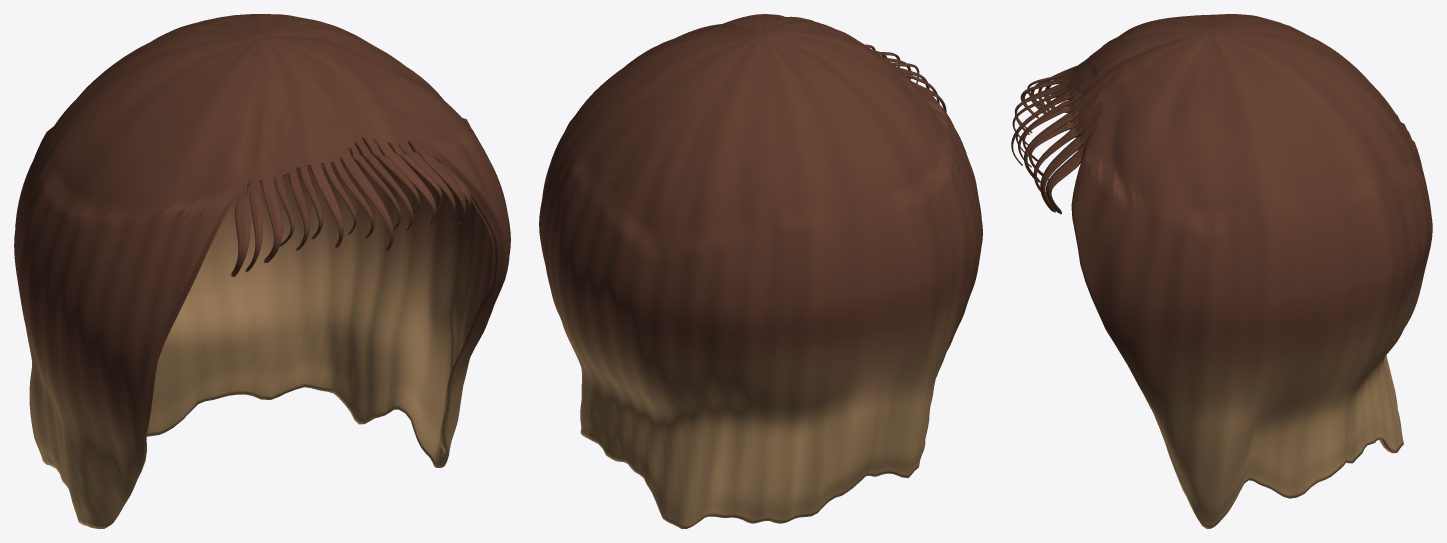
The model's file is side-sweep-headband-ombre.glb.
3 renders of one model, left to right at view 1: azimuth 30°, elevation 25°; view 2: azimuth 150°, elevation 25°; view 3: azimuth 270°, elevation 25°, orthographic. The views are drawn at different scales.
Visible parts, largest first — view 1: Wispy bangs / continuous crown; view 2: Wispy bangs / continuous crown; view 3: Wispy bangs / continuous crown.
Part boxes in pixels (box(x1,y1,x2,y2)): Wispy bangs / continuous crown: box(14, 14, 510, 528); Wispy bangs / continuous crown: box(539, 14, 982, 528); Wispy bangs / continuous crown: box(1011, 14, 1432, 528).
Size of the model in its own units: 0.8388 by 0.8786 by 0.7975.
